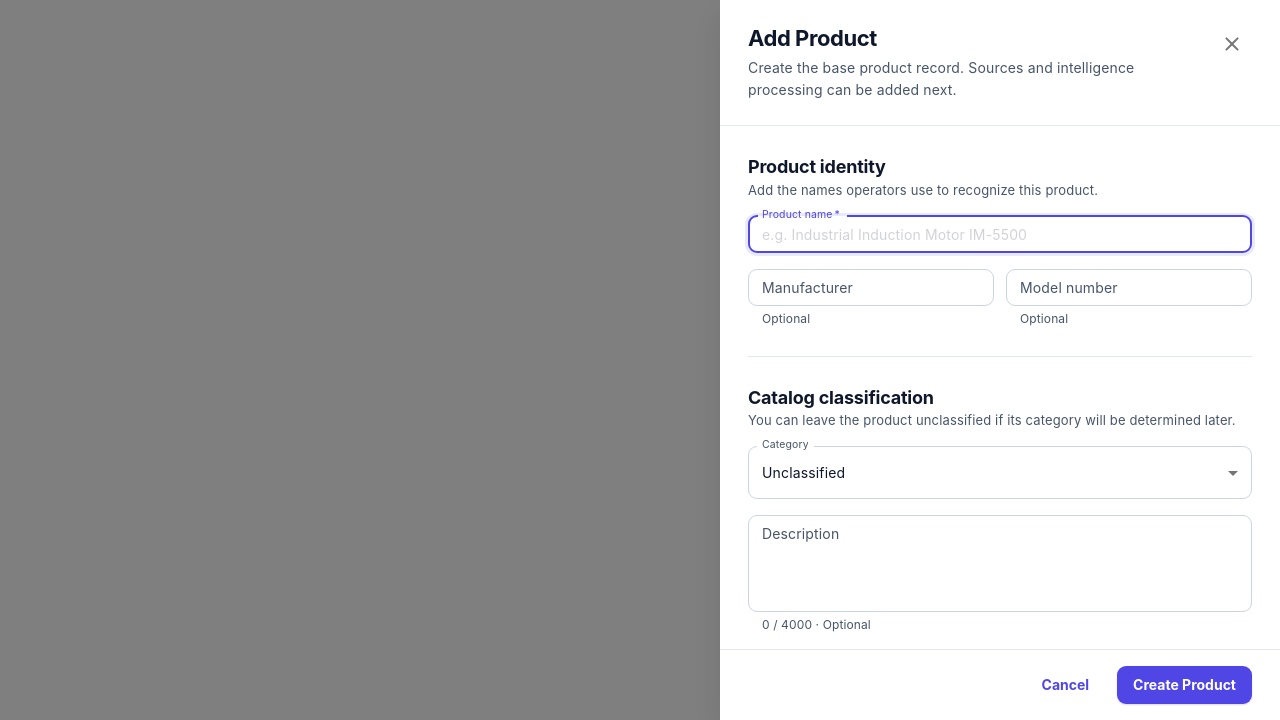
Test: Product creation drawer › submits the exact backend contract and completes the success flow
Type " Industrial Motor " into the field labelled "Product name *" at (1000, 234), box [748,216,1252,253]
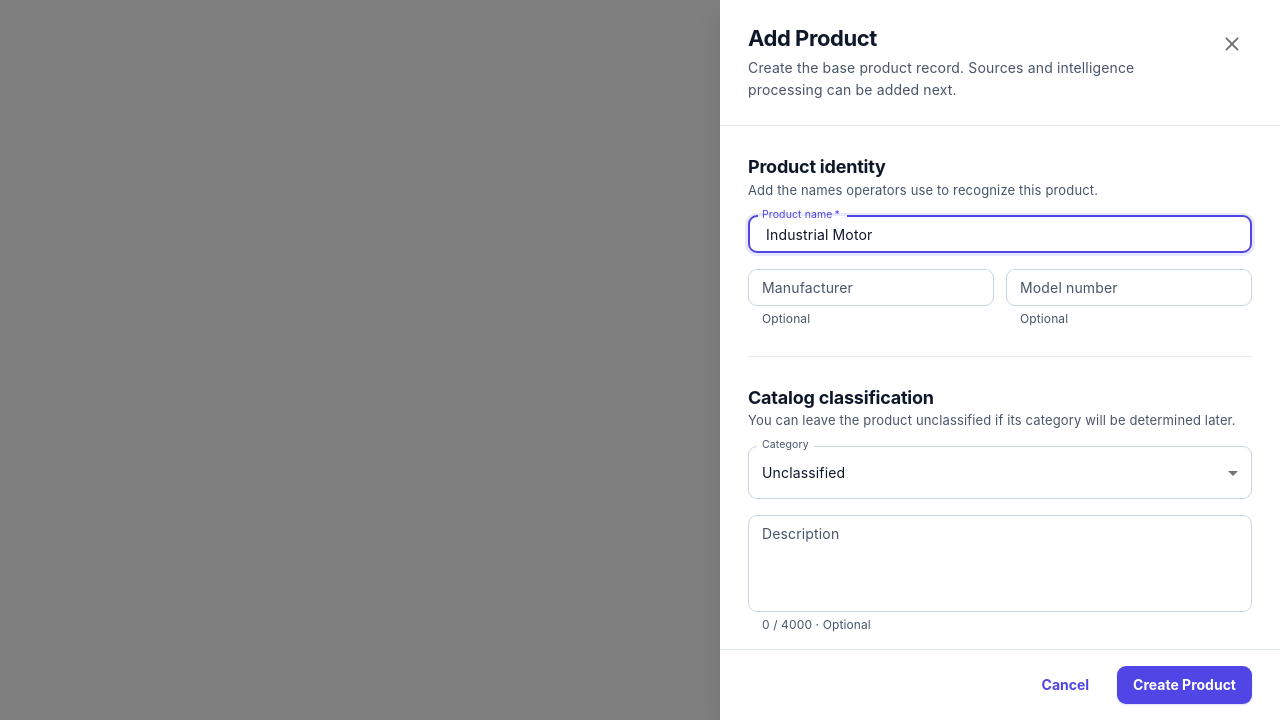
Type " ABC Motors " into the field labelled "Manufacturer" at (871, 287), box [748,269,994,306]
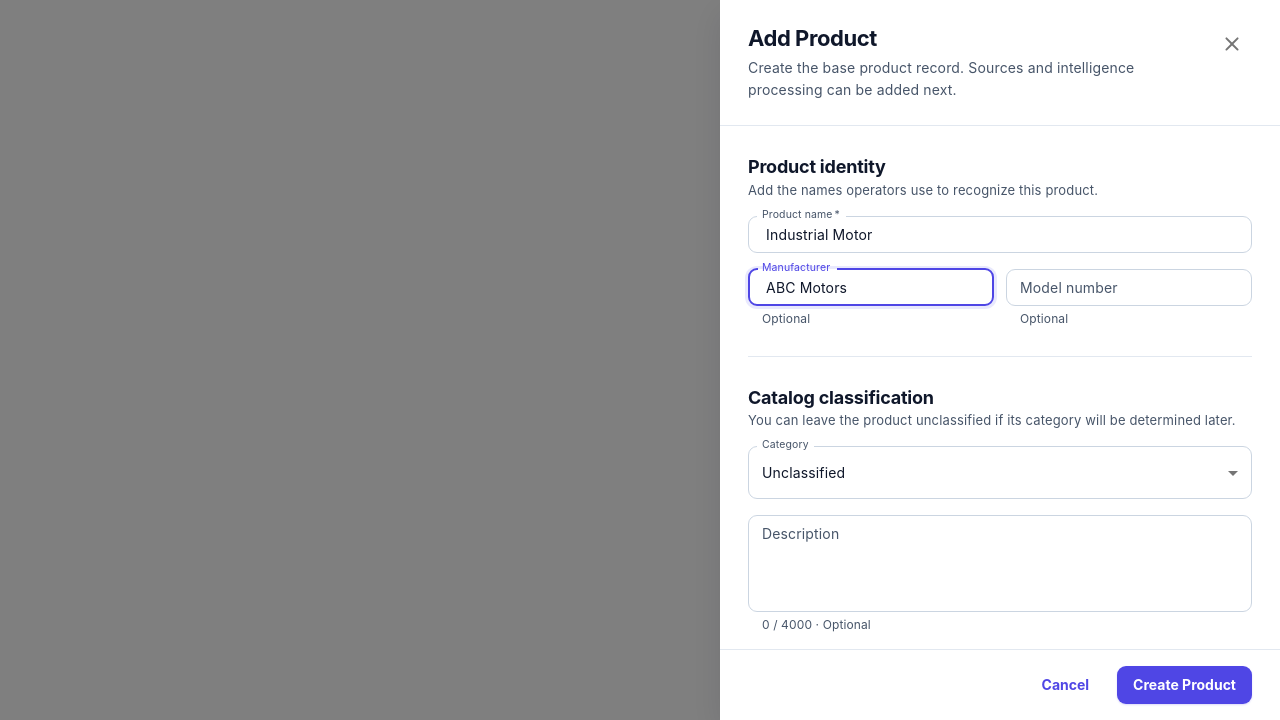
Type " IM-1 " into the field labelled "Model number" at (1129, 287), box [1006,269,1252,306]
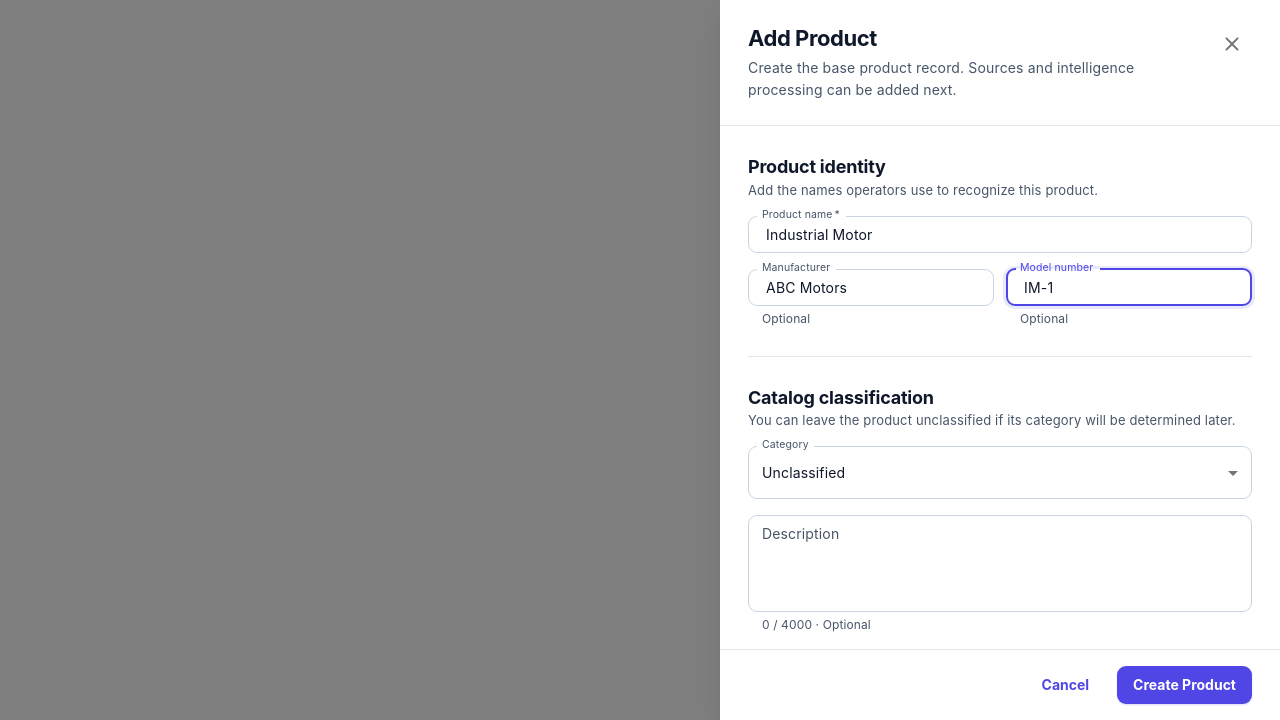
Click the button "Create Product" at (1185, 685), box [1117,666,1252,704]
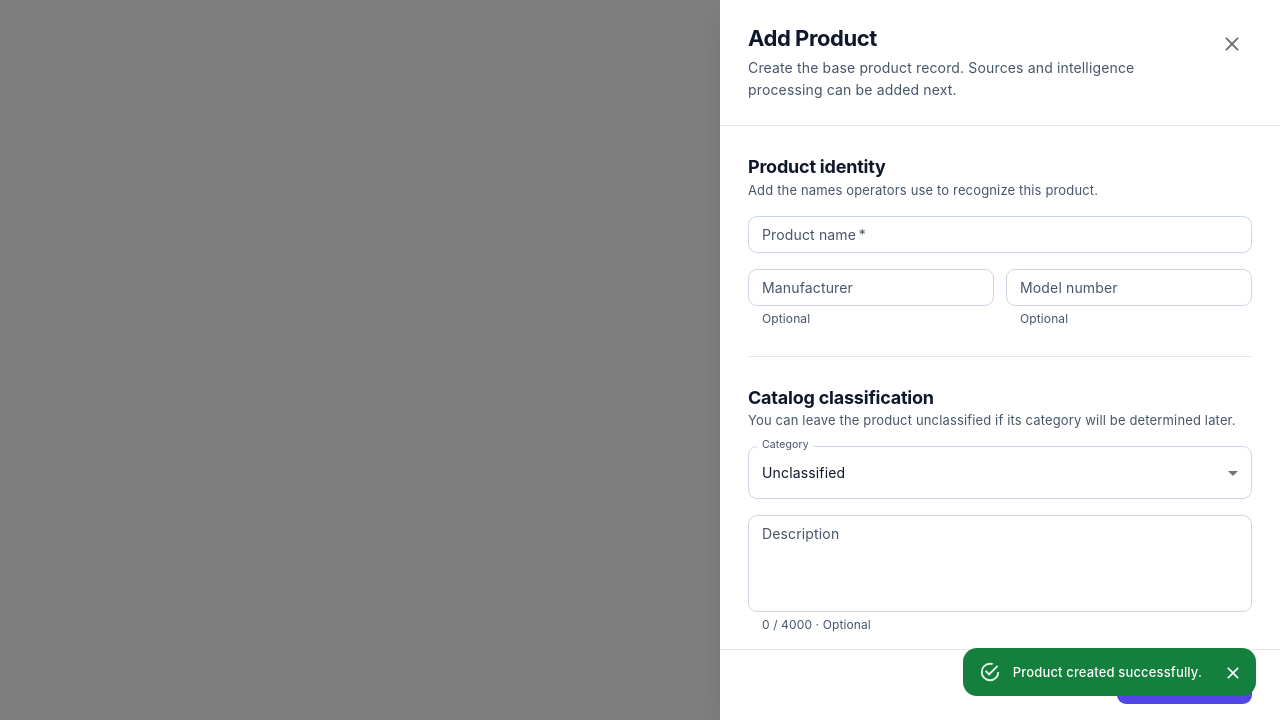
Result: the text "Product created successfully." is shown at [1013,664,1202,680]
